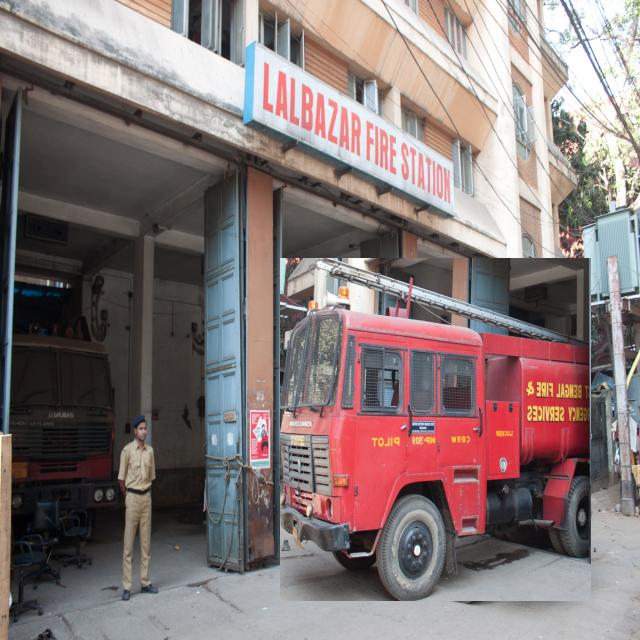emergency: (280, 259, 591, 601)
